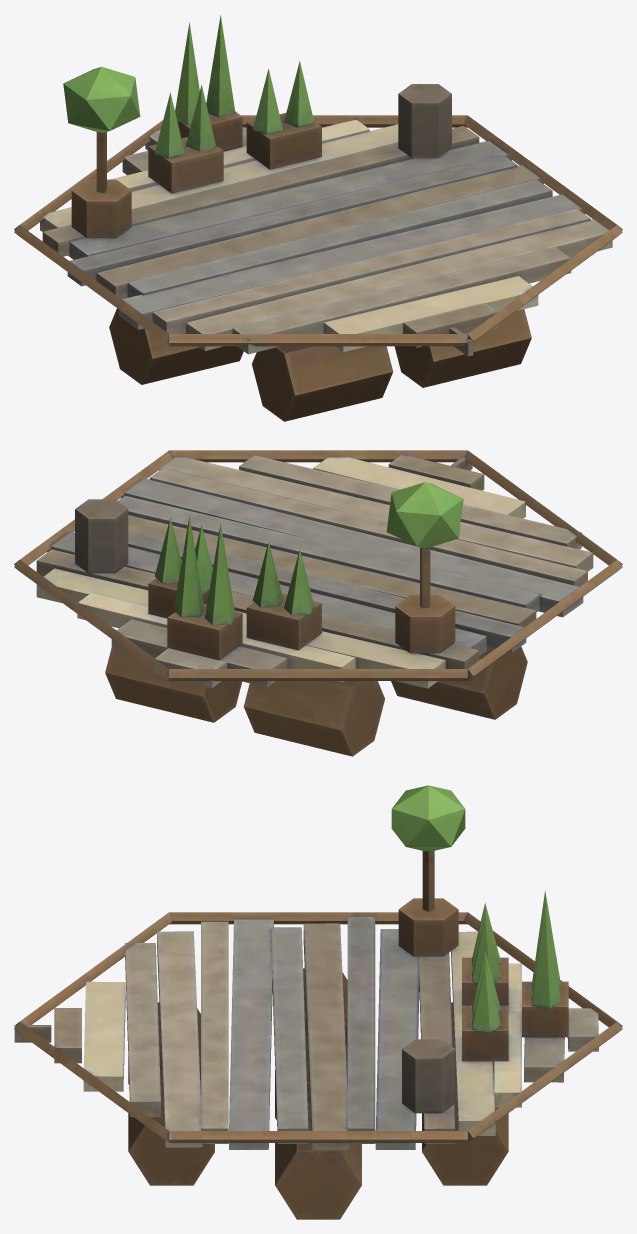
The model's file is raft-d-age1-lite.glb.
3 renders of one model, top to bottom at view 1: azimuth 30°, elevation 25°; view 2: azimuth 150°, elevation 25°; view 3: azimuth 270°, elevation 25°, orthographic.
Parts seen in each view (by area): view 1: raft-d-age1-lite; view 2: raft-d-age1-lite; view 3: raft-d-age1-lite.
Boxes of the visible parts, x1,y1,x2,y2 form: raft-d-age1-lite: [14, 15, 622, 421]; raft-d-age1-lite: [14, 450, 622, 756]; raft-d-age1-lite: [14, 785, 622, 1219].
Size of the model in its own units: 1.59 by 0.8731 by 1.83.
Materials: 1 (1 with a texture image).
